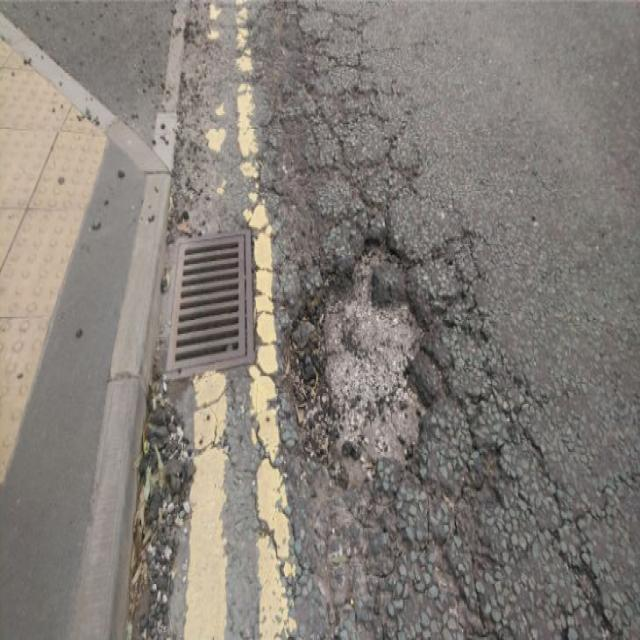pothole: (282, 223, 441, 484)
